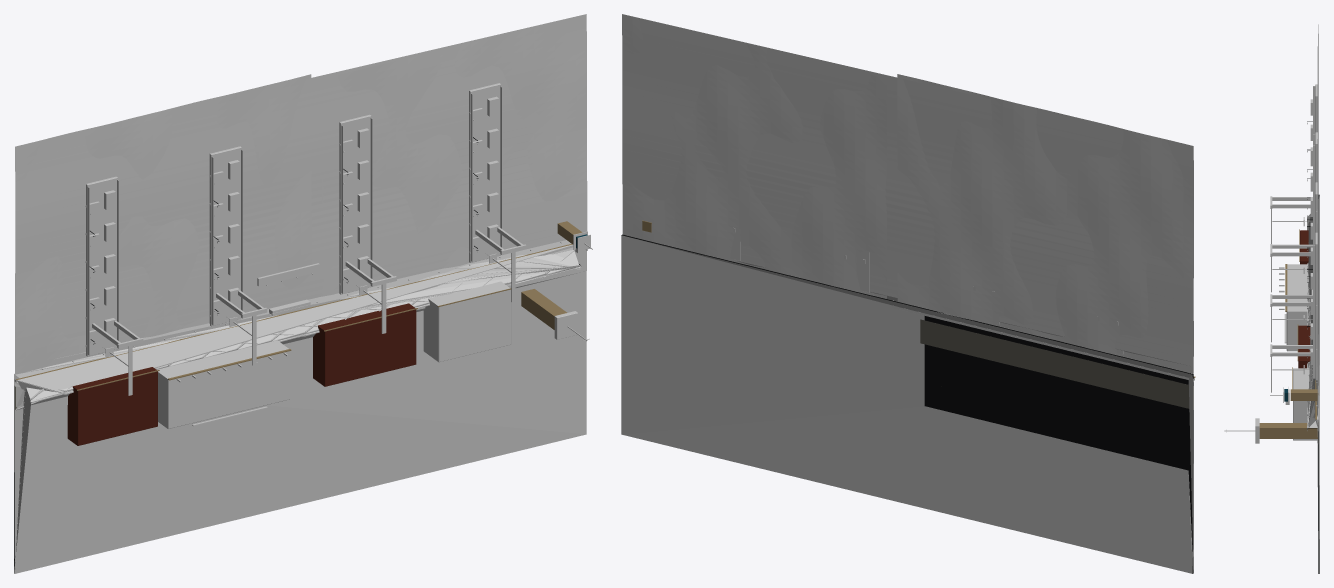
The model's file is grand_harbour.obj.
The picture shows the model from 3 angles, left to right: view 1: azimuth 30°, elevation 25°; view 2: azimuth 150°, elevation 25°; view 3: azimuth 270°, elevation 25°; orthographic projection. The views are drawn at different scales.
Bounding box in the file's own units: 300 × 214 × 54.7.
